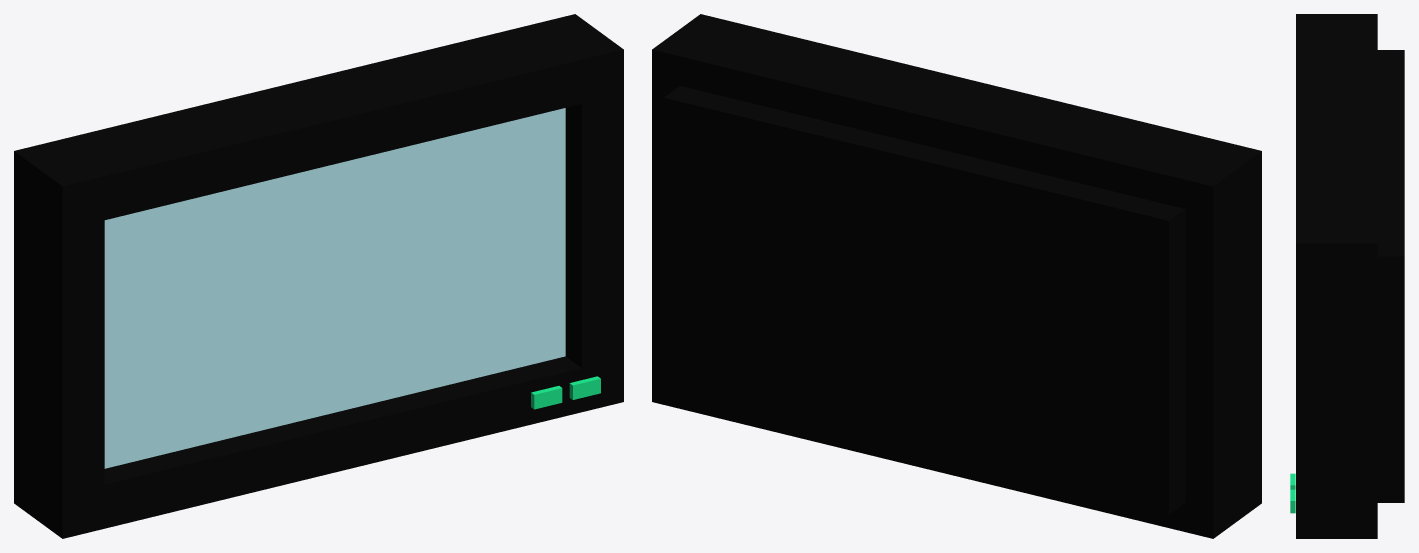
File: Wall_TV.gltf
3 views of the same model, side by side, from view 1: azimuth 30°, elevation 25°; view 2: azimuth 150°, elevation 25°; view 3: azimuth 270°, elevation 25° (orthographic). The views are drawn at different scales.
Visible parts, largest first — view 1: Wall_TV; view 2: Wall_TV; view 3: Wall_TV.
Boxes of the visible parts, <box> form: Wall_TV: <box>14,14,623,538</box>; Wall_TV: <box>652,14,1261,538</box>; Wall_TV: <box>1290,14,1404,538</box>.
Size of the model in its own units: 4.76 by 2.85 by 1.
